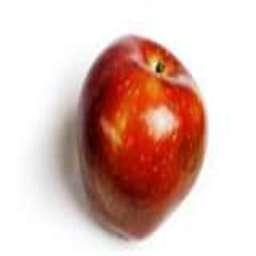apple: (76, 33, 207, 240)
